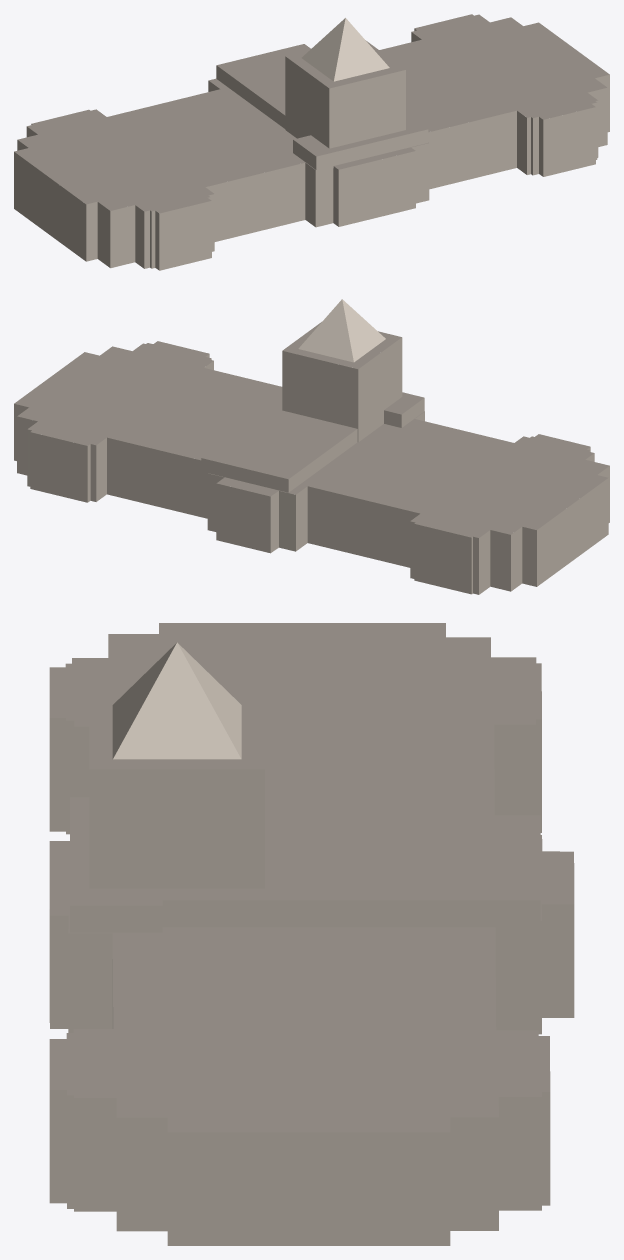
Rendered from national_diet_far.glb.
3 views of the same model, one above another, from view 1: azimuth 30°, elevation 25°; view 2: azimuth 150°, elevation 25°; view 3: azimuth 270°, elevation 25° (orthographic). The views are drawn at different scales.
Visible parts, largest first — view 1: NationalDiet_Far; view 2: NationalDiet_Far; view 3: NationalDiet_Far.
Part boxes in pixels (<box>): NationalDiet_Far: <box>14,14,609,270</box>; NationalDiet_Far: <box>14,299,609,594</box>; NationalDiet_Far: <box>49,623,574,1245</box>.
Bounding box in the file's own units: 206 × 65.95 × 89.66.
